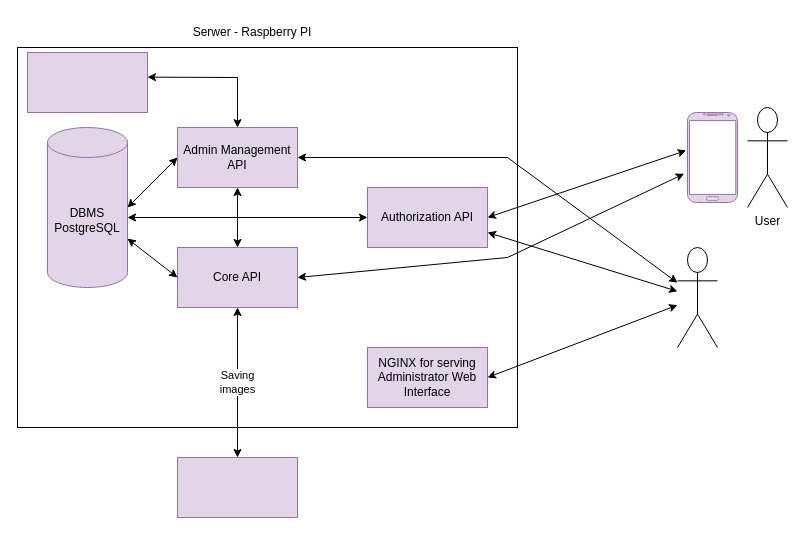
Image size: 805x535. Some labels were removed from this diagram. Each missing label, with the centre of its shape:
"Access to operating system and files" belongs at point 87,82.
"Admin" belongs at point 697,297.
"External disk" belongs at point 237,487.
